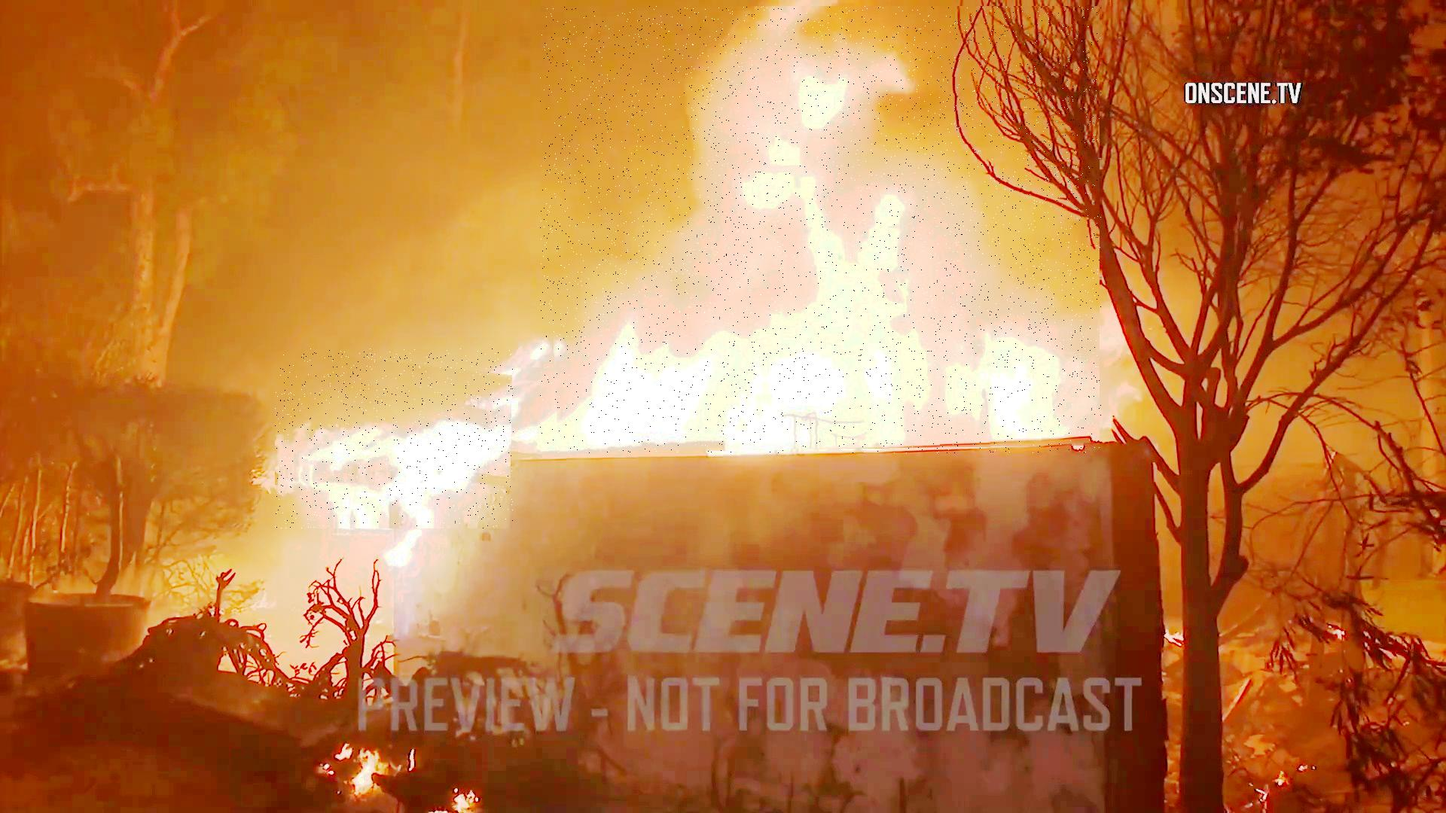fire: (541, 6, 1102, 453), (275, 349, 514, 529)
